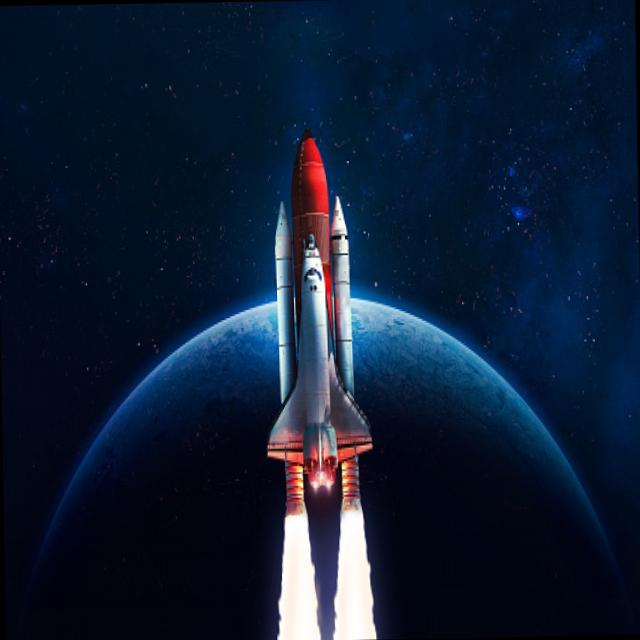rocket: (257, 135, 379, 628)
